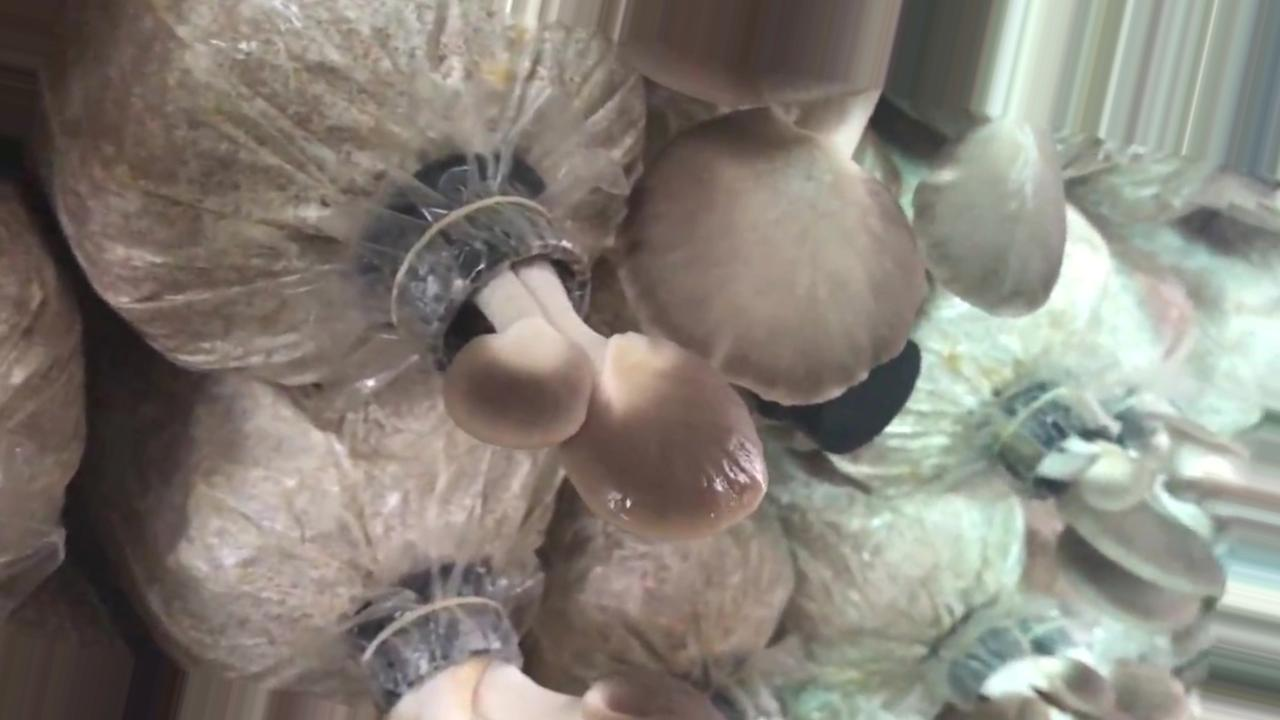nam: (594, 1, 1071, 410), (386, 182, 768, 557), (998, 381, 1228, 621), (367, 596, 722, 720), (955, 623, 1114, 720), (1038, 625, 1191, 720)
